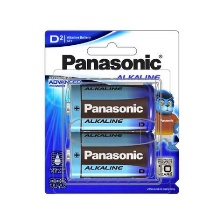battery: (63, 79, 157, 135), (64, 130, 157, 181)
